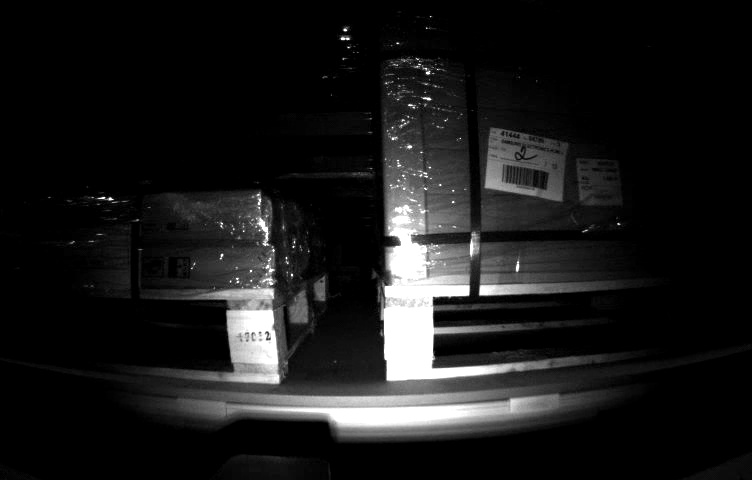True Barcode: (572, 156, 627, 211)
